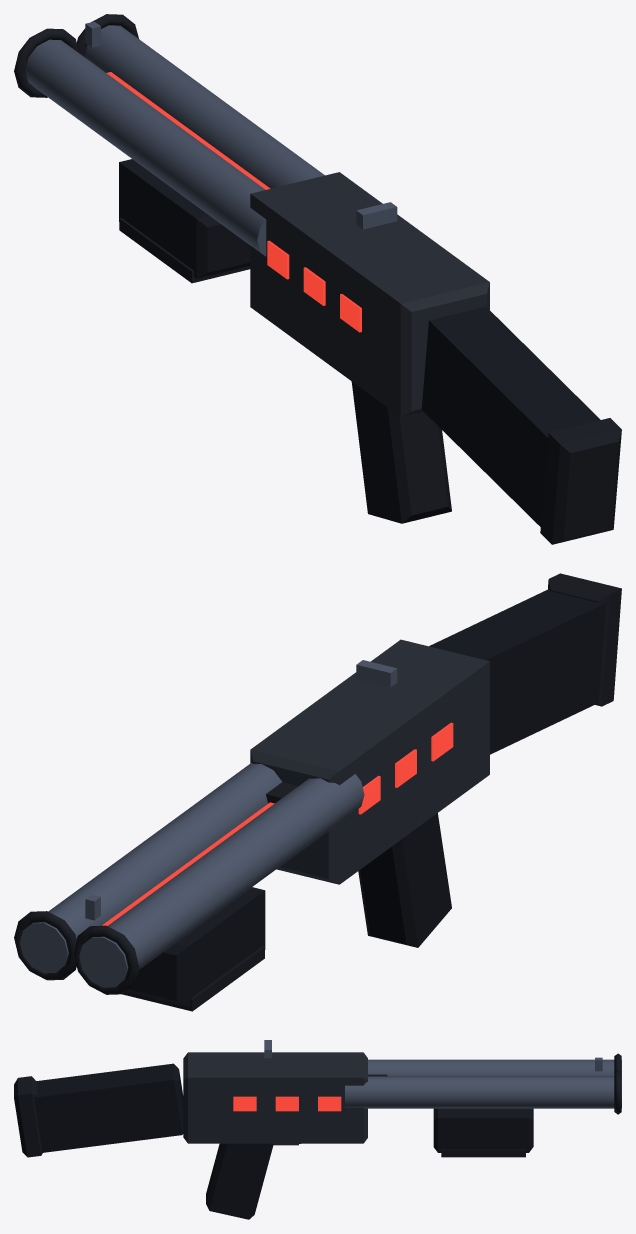
Rendered from weapon_maw.glb.
3 renders of one model, top to bottom at view 1: azimuth 30°, elevation 25°; view 2: azimuth 150°, elevation 25°; view 3: azimuth 270°, elevation 25°, orthographic. The views are drawn at different scales.
Parts seen in each view (by area): view 1: weapon_maw; view 2: weapon_maw; view 3: weapon_maw.
Boxes of the visible parts, x1,y1,x2,y2 form: weapon_maw: (14, 14, 621, 544); weapon_maw: (14, 573, 621, 1011); weapon_maw: (14, 1040, 621, 1219).
Size of the model in its own units: 0.11 by 0.2404 by 0.7903.
